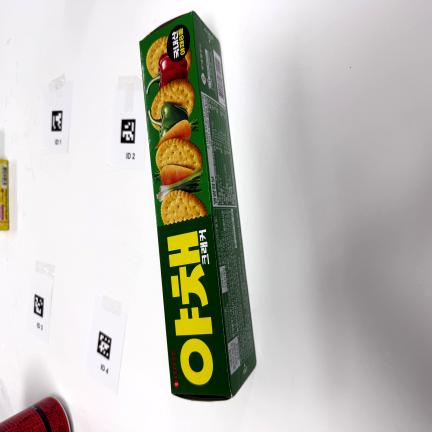cracker_vege: (140, 11, 256, 400)
